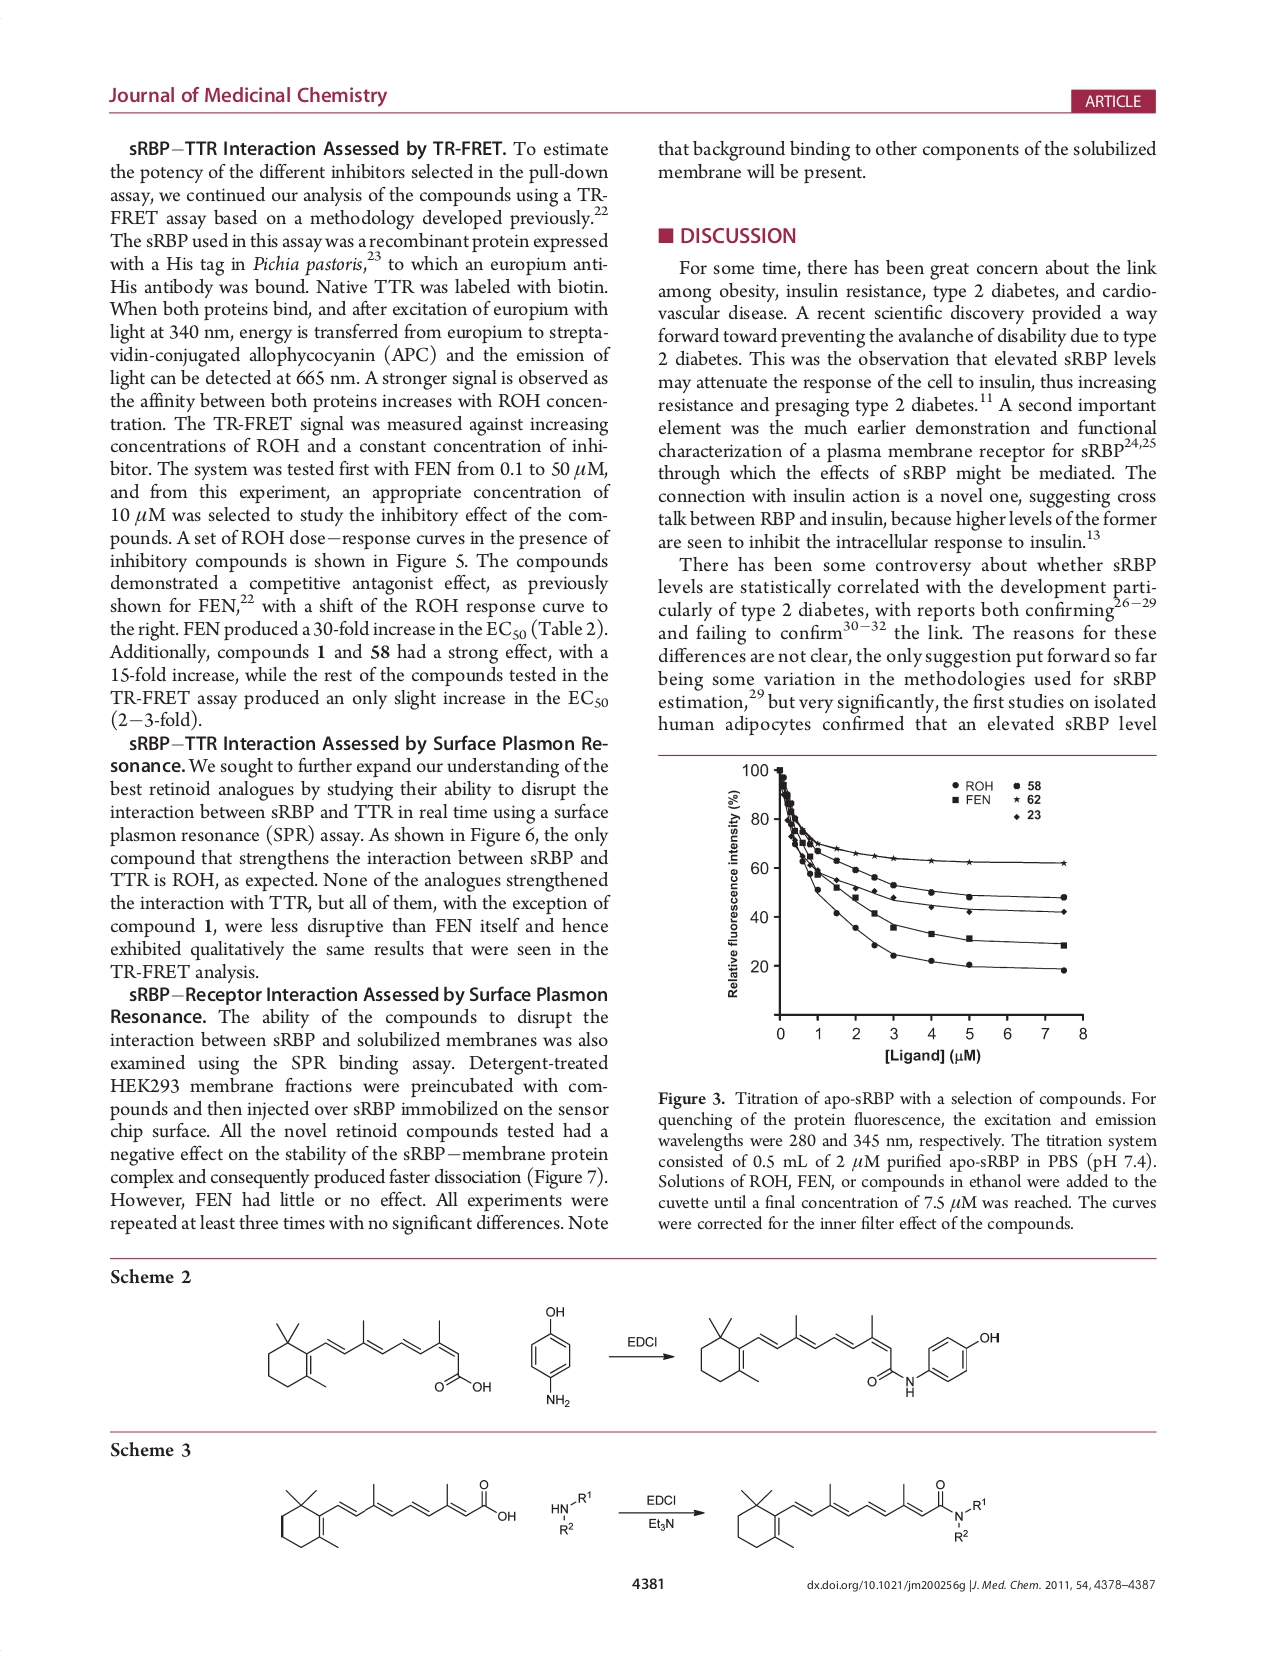exist_molecular: (696, 1309, 1005, 1400), (275, 1470, 519, 1555), (730, 1477, 989, 1551), (265, 1317, 496, 1396), (524, 1299, 578, 1411), (551, 1485, 593, 1535)
